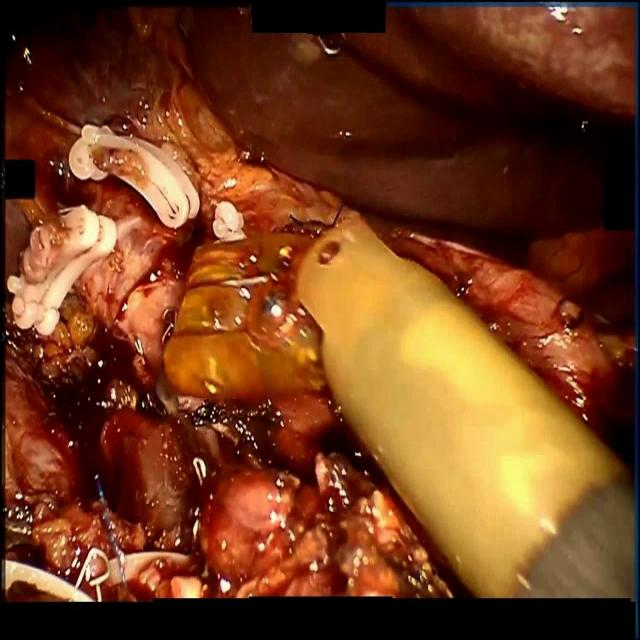surgical-area: (0, 0, 636, 604)
surgical-tool: (162, 210, 636, 603)
